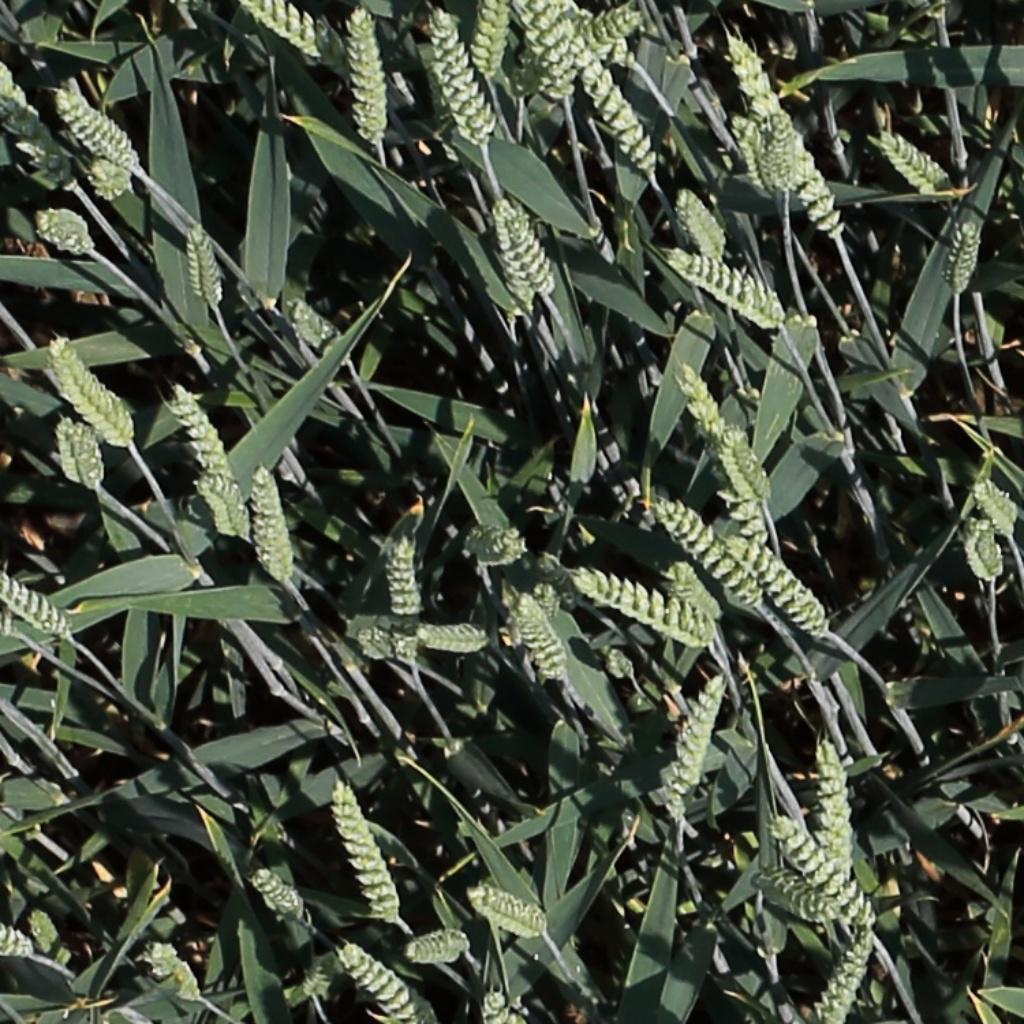0-0: (558, 19, 660, 176), (654, 478, 777, 605), (770, 816, 876, 929), (330, 779, 404, 927), (733, 535, 834, 641), (46, 333, 135, 447), (664, 671, 730, 823), (0, 58, 75, 191), (574, 570, 708, 644), (427, 5, 495, 148), (671, 248, 786, 323), (166, 376, 236, 487), (724, 30, 790, 135), (71, 86, 154, 169), (819, 918, 882, 1022), (491, 194, 550, 304), (343, 938, 424, 1018), (673, 352, 733, 460), (512, 588, 570, 686), (251, 461, 293, 589), (817, 734, 853, 880), (791, 151, 849, 241), (352, 6, 386, 151), (0, 569, 70, 638), (520, 0, 573, 88), (675, 180, 731, 263), (245, 1, 324, 57), (725, 416, 777, 501), (730, 106, 778, 195), (195, 469, 251, 544), (759, 875, 845, 922), (144, 940, 206, 1004), (880, 129, 948, 187), (669, 558, 727, 626), (471, 888, 547, 936), (248, 869, 307, 927), (185, 217, 222, 308), (967, 481, 1018, 545), (54, 412, 92, 495), (416, 612, 489, 655), (948, 214, 983, 299), (286, 293, 334, 354), (546, 550, 594, 609), (771, 105, 801, 197), (965, 516, 1003, 588), (391, 531, 419, 628), (84, 152, 136, 203), (476, 0, 507, 84), (581, 9, 644, 47), (465, 527, 525, 566), (24, 902, 62, 962), (35, 211, 94, 249), (599, 640, 641, 688), (0, 905, 32, 957), (532, 577, 562, 627), (354, 629, 400, 660), (406, 939, 472, 959), (480, 981, 510, 1024), (299, 963, 334, 996), (0, 582, 12, 636)
